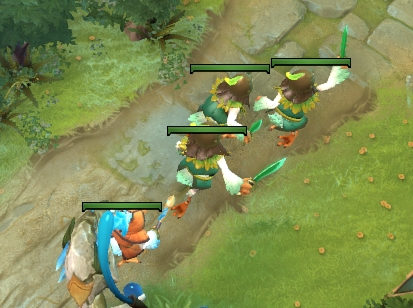allyCreep: (164, 124, 249, 138), (268, 56, 354, 69), (80, 200, 164, 212), (188, 63, 271, 75)
